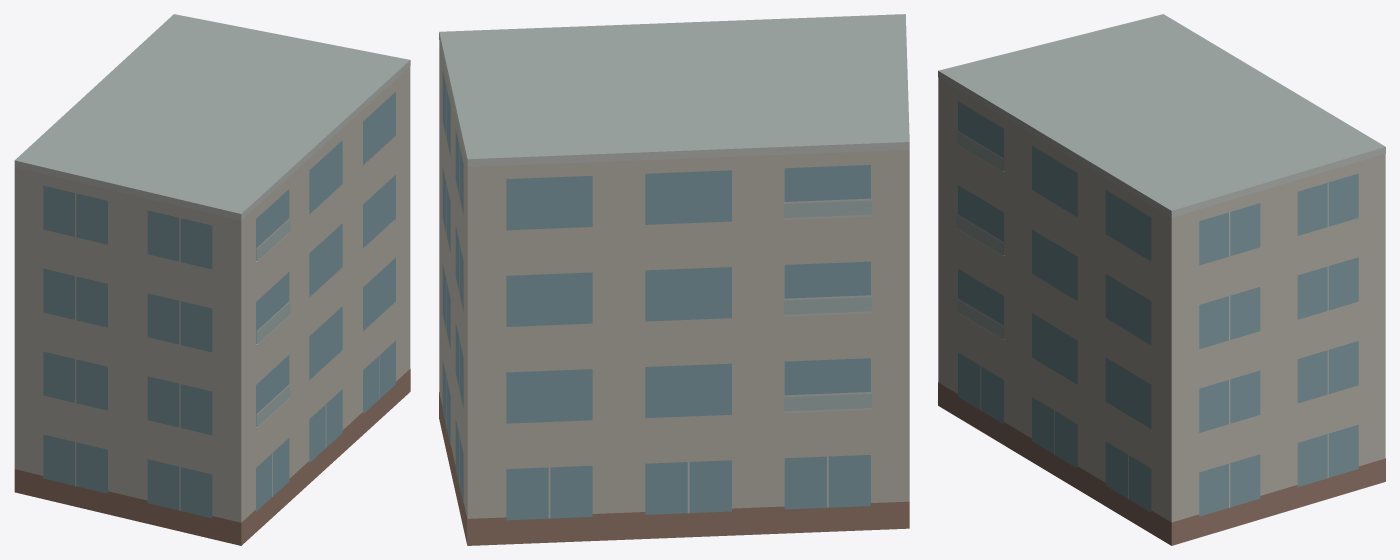
Rendered from survey-upis-32887735.glb.
The picture shows the model from 3 angles, left to right: view 1: azimuth 30°, elevation 25°; view 2: azimuth 150°, elevation 25°; view 3: azimuth 270°, elevation 25°; orthographic projection. The views are drawn at different scales.
Visible parts, largest first — view 1: survey-upis-32887735.tmp; view 2: survey-upis-32887735.tmp; view 3: survey-upis-32887735.tmp.
Part boxes in pixels (bbox=[...]): survey-upis-32887735.tmp: bbox=[14, 14, 410, 545]; survey-upis-32887735.tmp: bbox=[439, 14, 909, 545]; survey-upis-32887735.tmp: bbox=[938, 14, 1385, 545].
Bounding box in the file's own units: 15.39 × 12.2 × 14.79.
